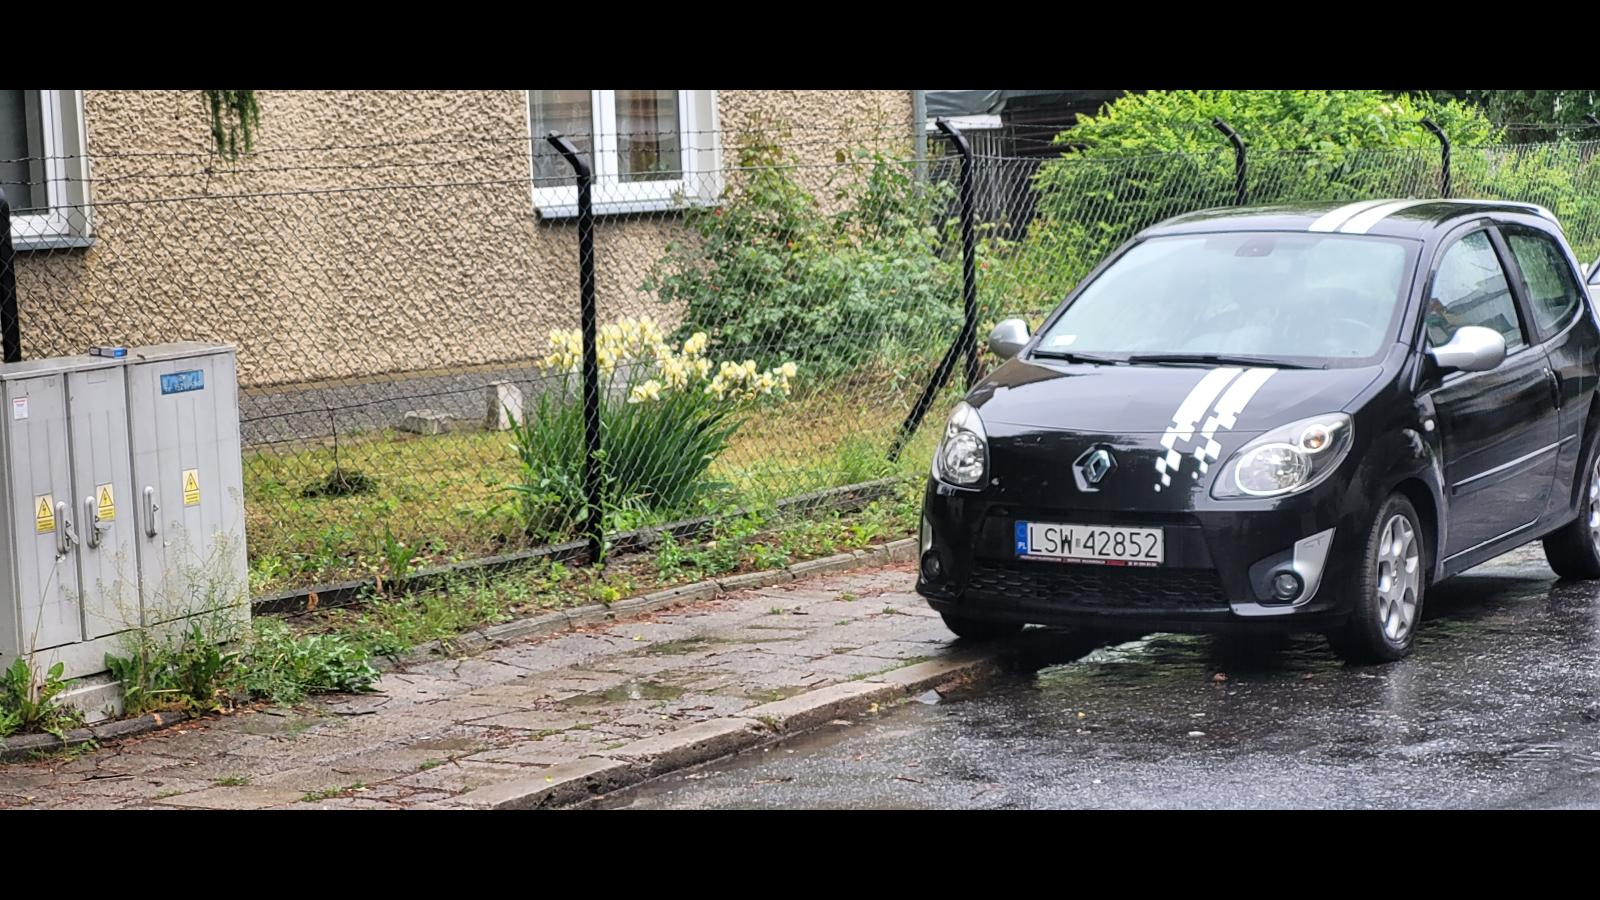plates: (1015, 520, 1164, 568)
